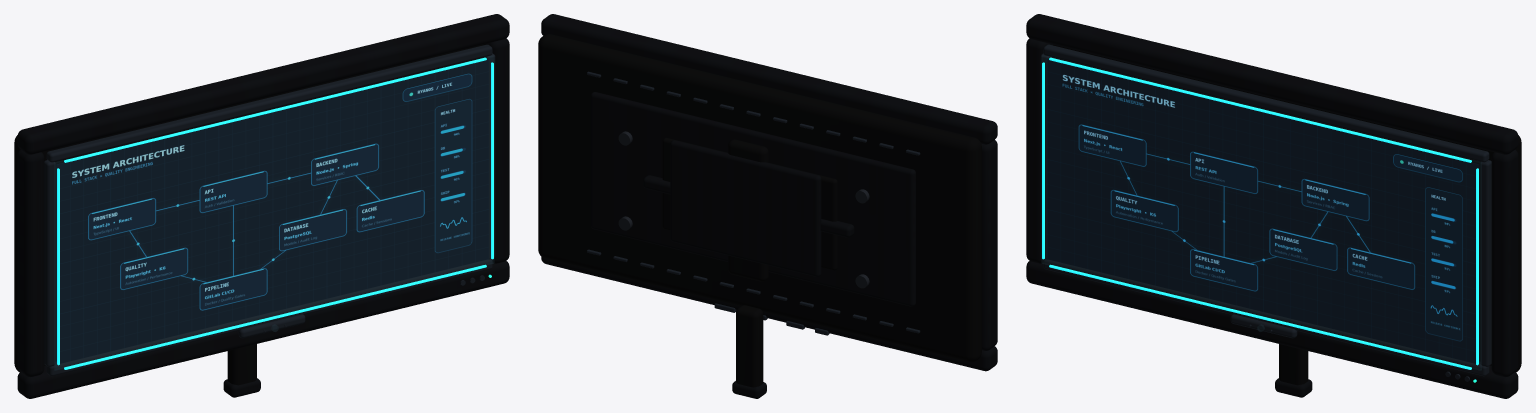
File: architecture-screen.glb
3 views of the same model, side by side, from view 1: azimuth 30°, elevation 25°; view 2: azimuth 150°, elevation 25°; view 3: azimuth 330°, elevation 25° (orthographic). The views are drawn at different scales.
Parts seen in each view (by area): view 1: Screen_ProtectiveGlass, Screen_Architecture, Frame_Top, Frame_Bottom, Frame_Left, Bezel_Top, Bezel_Bottom, Frame_Right, Screen_BackHousing, Bezel_Left, LED_Top, LED_Bottom (+6 smaller); view 2: Screen_BackHousing, Screen_RearHeatPlate, WallMount_Plate, Frame_Top, Frame_Left, Frame_Bottom, CableChannel, Screen_RearCenterCover, WallMount_CenterSpine, WallMount_Arm_Left, CableChannel_Cap; view 3: Screen_ProtectiveGlass, Screen_Architecture, Frame_Top, Frame_Bottom, Frame_Right, Bezel_Top, Bezel_Bottom, Frame_Left, Screen_BackHousing, Bezel_Right, LED_Top, LED_Bottom (+6 smaller).
Part boxes in pixels (x1,y1,x2,y2): Screen_ProtectiveGlass: [54, 55, 494, 370]; Screen_Architecture: [56, 59, 488, 363]; Frame_Top: [17, 14, 509, 154]; Frame_Bottom: [17, 261, 509, 398]; Frame_Left: [17, 149, 44, 377]; Bezel_Top: [46, 44, 492, 162]; Bezel_Bottom: [46, 259, 492, 376]; Frame_Right: [483, 38, 509, 263]; Screen_BackHousing: [14, 44, 482, 372]; Bezel_Left: [44, 160, 55, 366]; LED_Top: [64, 57, 486, 162]; LED_Bottom: [64, 264, 486, 369]; Screen_BackHousing: [538, 34, 981, 362]; Screen_RearHeatPlate: [591, 92, 915, 306]; WallMount_Plate: [670, 140, 821, 276]; Frame_Top: [541, 14, 997, 144]; Frame_Left: [981, 140, 997, 350]; Frame_Bottom: [541, 257, 997, 371]; CableChannel: [736, 305, 763, 387]; Screen_RearCenterCover: [662, 137, 837, 270]; WallMount_CenterSpine: [728, 139, 768, 281]; WallMount_Arm_Left: [820, 219, 854, 237]; CableChannel_Cap: [732, 381, 766, 398]; Screen_ProtectiveGlass: [1041, 55, 1481, 370]; Screen_Architecture: [1047, 59, 1479, 363]; Frame_Top: [1026, 14, 1518, 154]; Frame_Bottom: [1026, 261, 1518, 398]; Frame_Right: [1491, 149, 1518, 377]; Bezel_Top: [1043, 44, 1489, 162]; Bezel_Bottom: [1043, 259, 1489, 376]; Frame_Left: [1026, 38, 1052, 263]; Screen_BackHousing: [1053, 44, 1521, 372]; Bezel_Right: [1480, 160, 1491, 366]; LED_Top: [1049, 57, 1471, 162]; LED_Bottom: [1049, 264, 1471, 369].
Size of the model in its own units: 1.86 by 1.22 by 0.275.
Materials: 8 (3 with a texture image).
